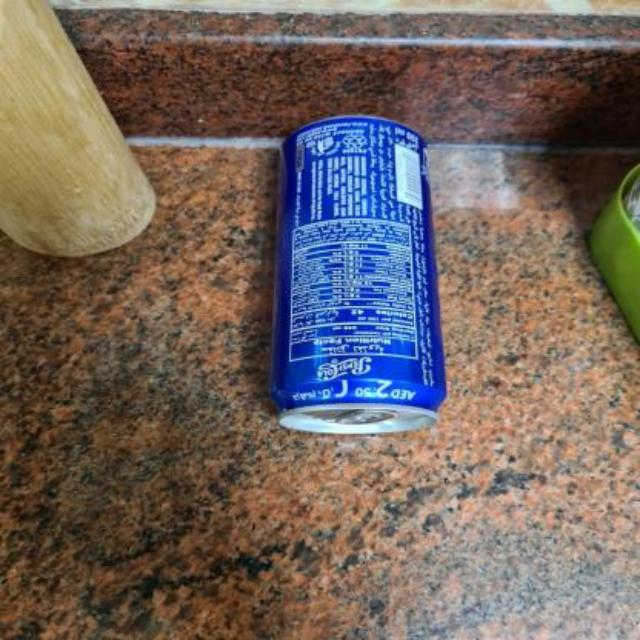metal: (269, 115, 443, 431)
